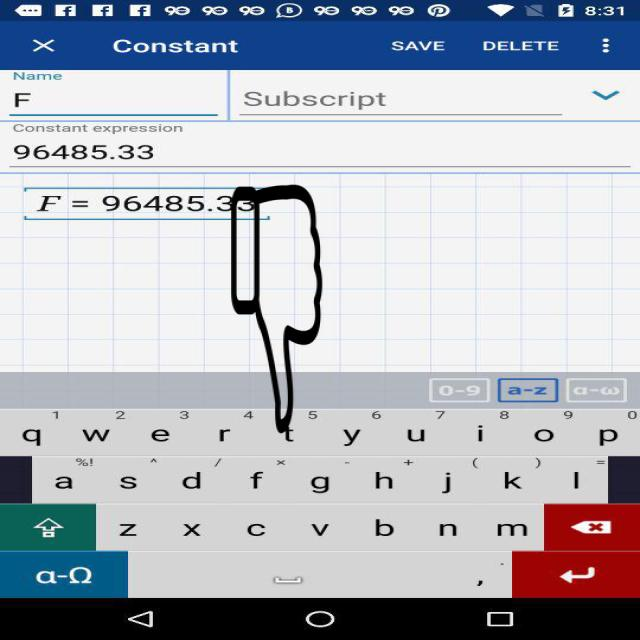obstruction: (230, 185, 323, 433)
